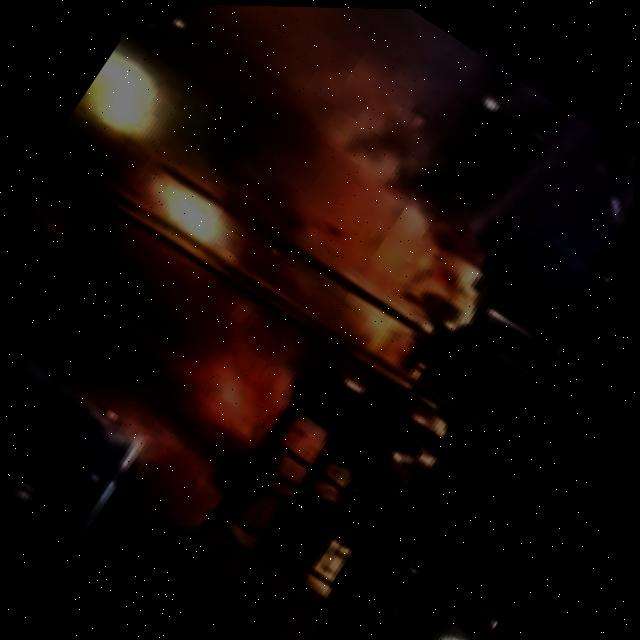Smoke: (0, 0, 516, 537), (0, 166, 328, 510)
